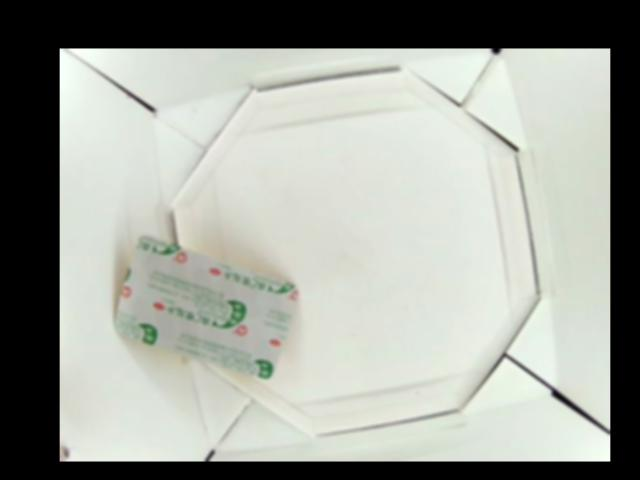Medicine: (114, 236, 298, 379)
